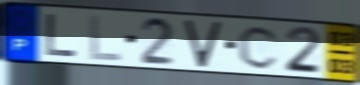2: (284, 25, 323, 76), (140, 15, 176, 68)
C: (236, 24, 281, 71)
L: (88, 13, 124, 63), (44, 12, 80, 59)
V: (182, 19, 225, 69)
